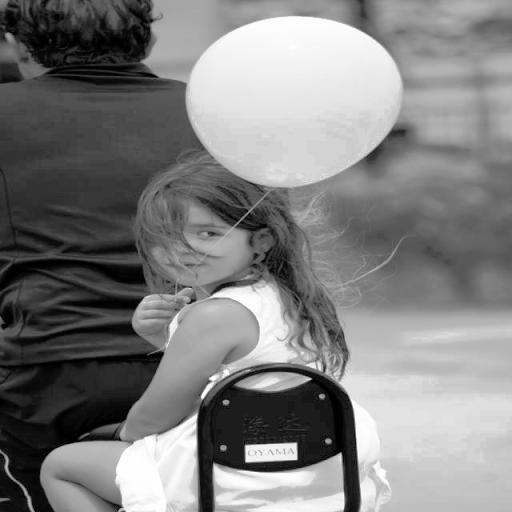balloon: (186, 12, 404, 187)
